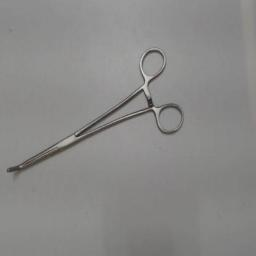Lahey Forceps: (3, 45, 187, 177)
